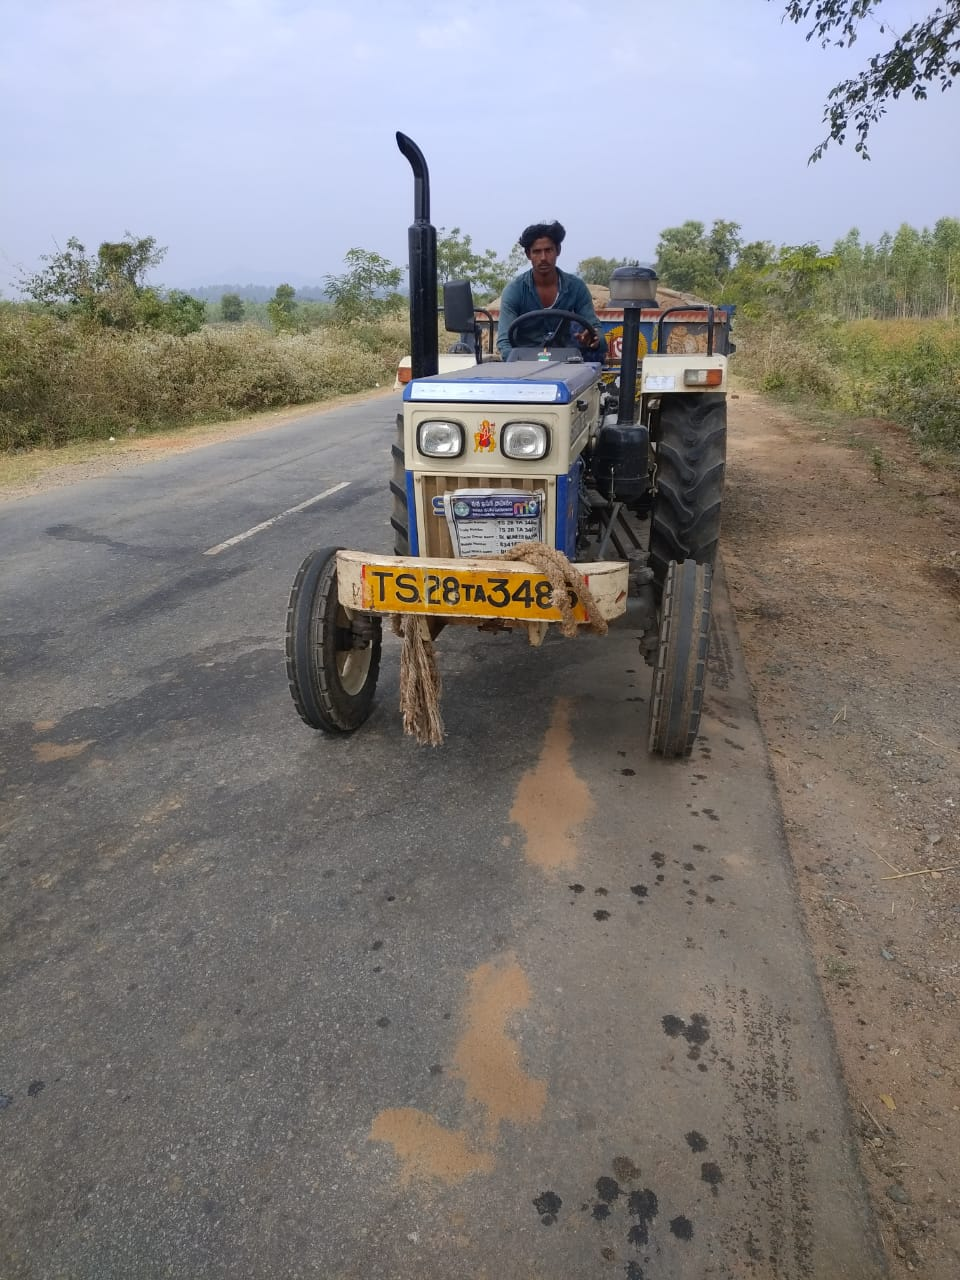num_plate: (355, 551, 588, 623)
